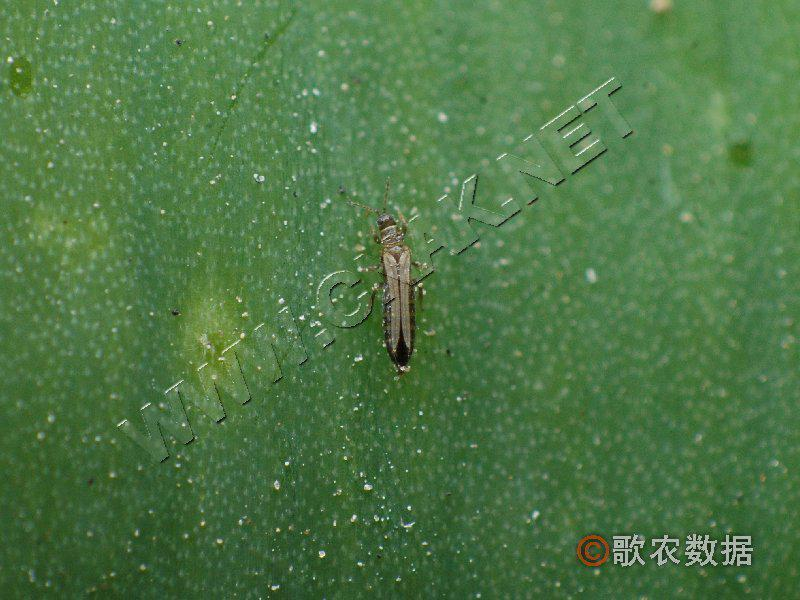tiny_pests: (317, 161, 454, 376)
